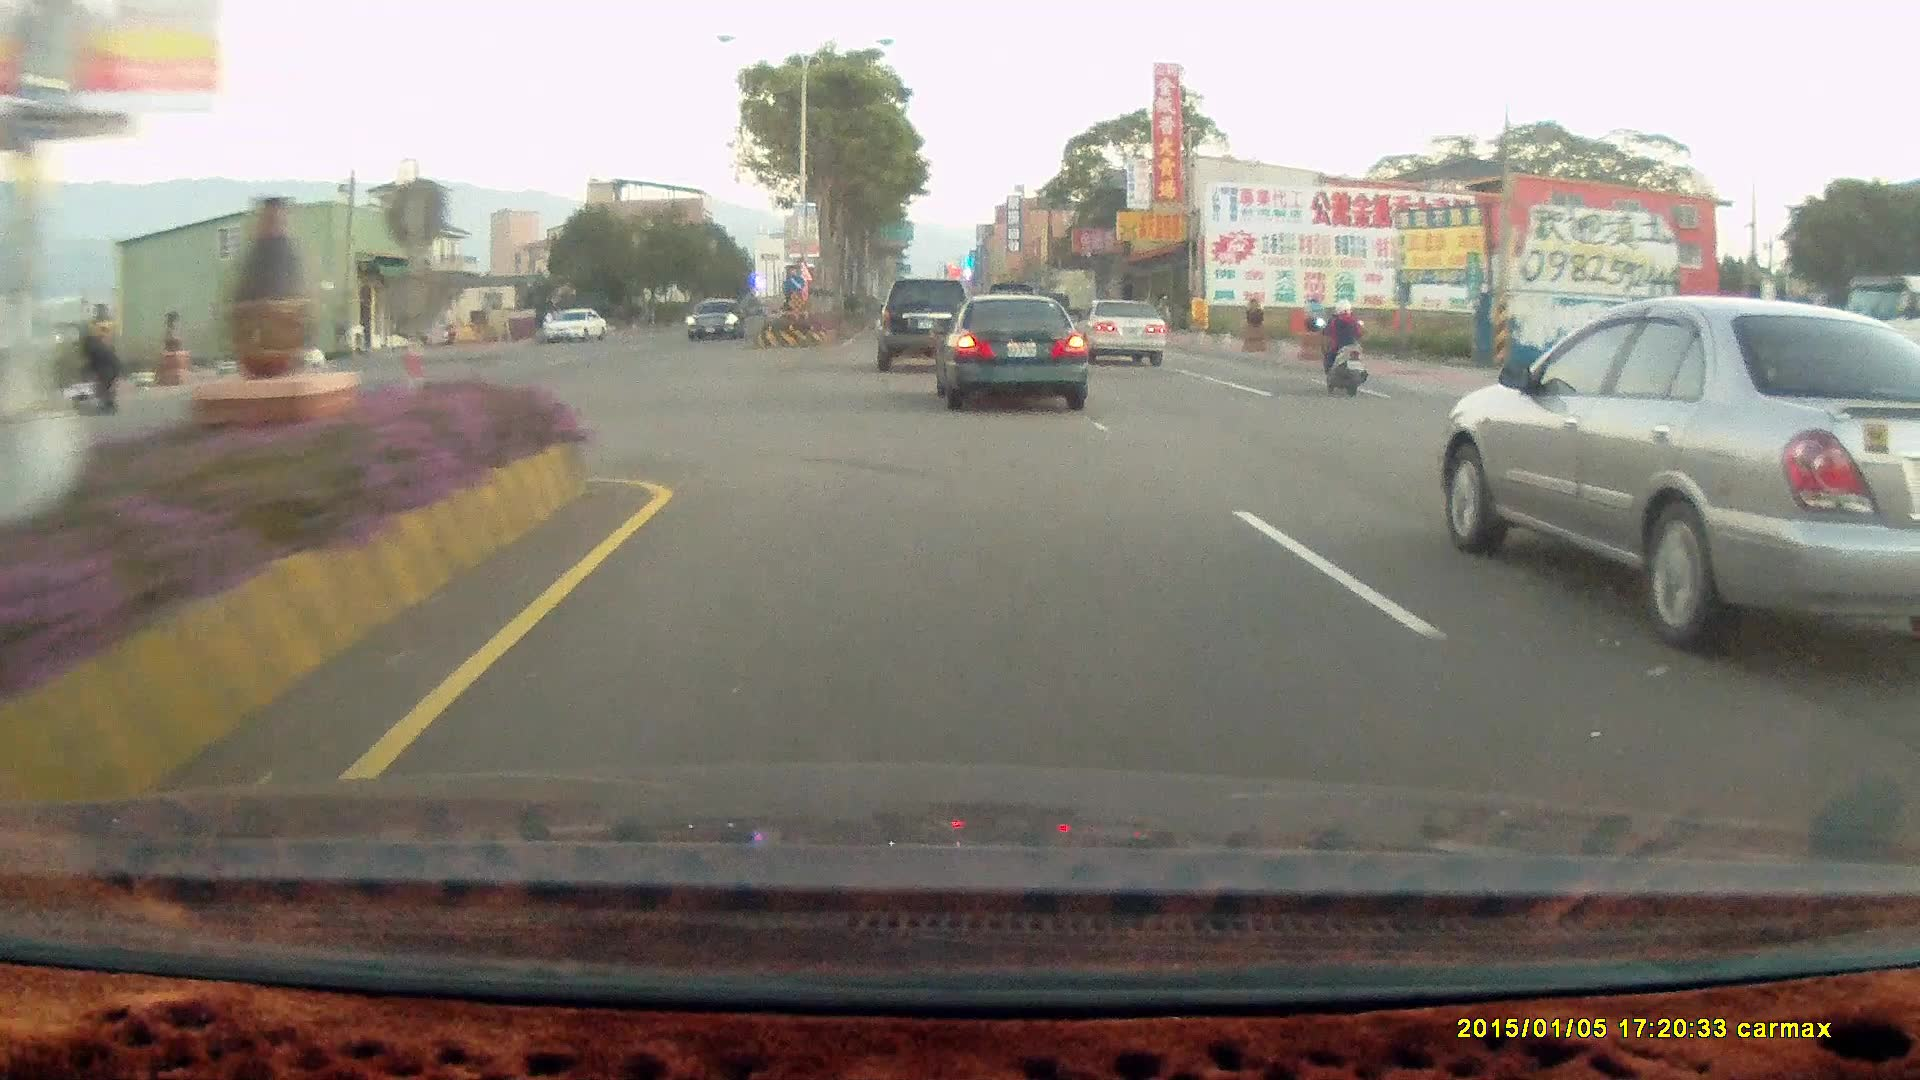pedestrian: (76, 329, 121, 412)
rider: (1307, 290, 1378, 407), (1312, 295, 1368, 394)
vehicle: (1434, 299, 1920, 663), (926, 291, 1084, 408), (942, 297, 1095, 414), (880, 274, 978, 374), (875, 276, 970, 371), (1075, 294, 1167, 364), (1077, 300, 1167, 366), (686, 298, 749, 344), (543, 306, 612, 345), (685, 297, 746, 340), (541, 304, 609, 341)
